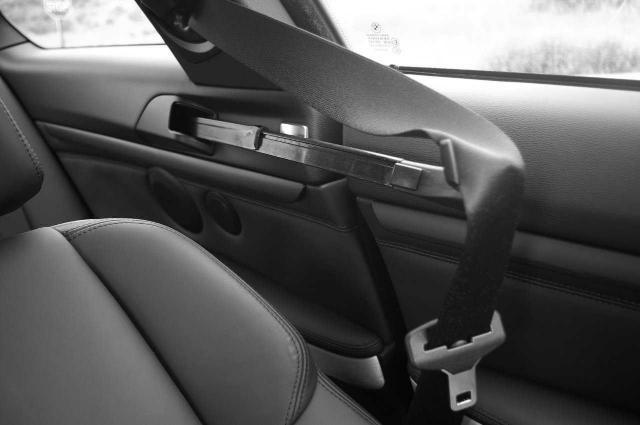Seatbelt: (184, 0, 533, 425)
